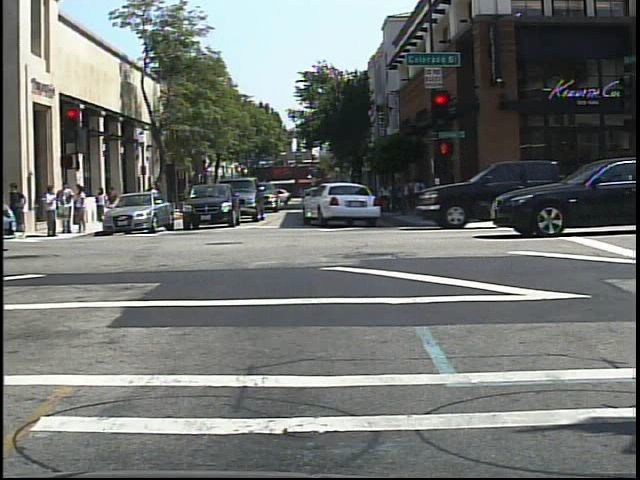person: (146, 180, 163, 216), (143, 180, 159, 212), (94, 187, 107, 225)
